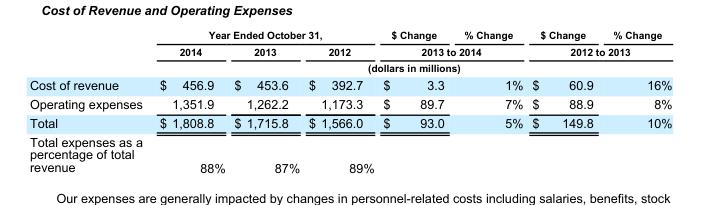table: (28, 29, 671, 174)
table column: (28, 29, 150, 174), (150, 29, 229, 174), (303, 29, 378, 174), (378, 29, 453, 174), (527, 29, 602, 174), (229, 29, 303, 174), (453, 29, 527, 174), (602, 29, 671, 174)
table column header: (28, 29, 671, 75)
table row: (28, 132, 671, 174), (28, 75, 671, 94), (28, 94, 671, 113), (28, 113, 671, 132), (28, 42, 671, 59), (28, 59, 671, 75), (28, 29, 671, 42)
table spanning cell: (150, 59, 671, 75), (150, 29, 378, 42), (378, 42, 527, 59), (527, 42, 671, 59)
